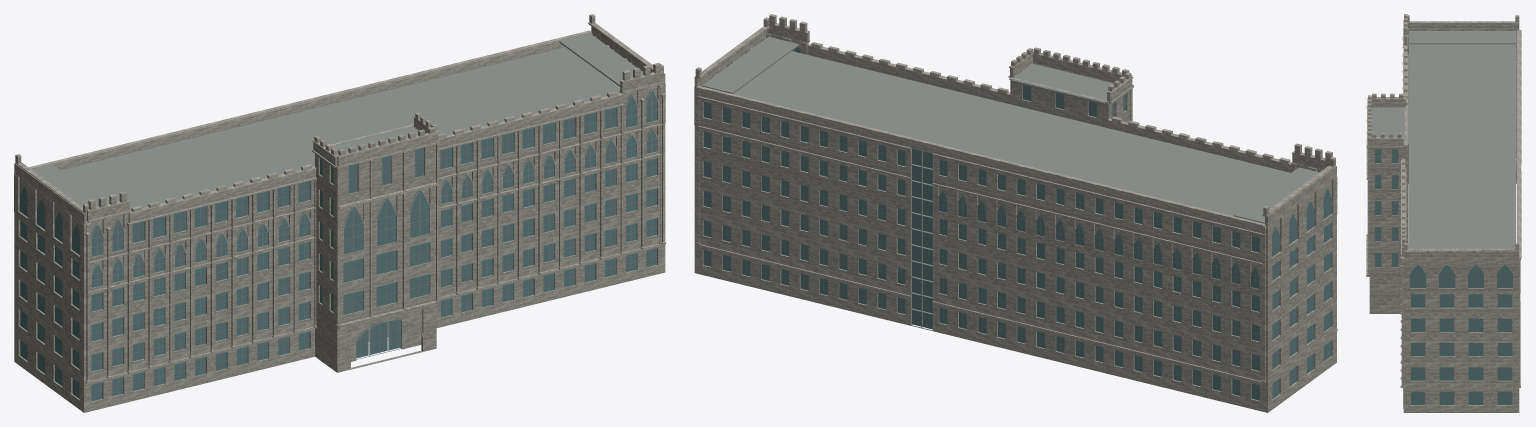
3 renders of one model, left to right at view 1: azimuth 30°, elevation 25°; view 2: azimuth 150°, elevation 25°; view 3: azimuth 270°, elevation 25°, orthographic. The views are drawn at different scales.
Visible parts, largest first — view 1: woodang__stone, woodang__glass, woodang__cream, woodang__roof, woodang__frame, woodang__rough; view 2: woodang__cream, woodang__roof, woodang__glass, woodang__stone, woodang__frame; view 3: woodang__roof, woodang__cream, woodang__stone, woodang__glass, woodang__frame.
Boxes of the visible parts, x1,y1,x2,y2 form: woodang__stone: (14,26,665,412); woodang__glass: (19,89,657,401); woodang__cream: (15,14,665,383); woodang__roof: (32,33,649,341); woodang__frame: (91,90,658,402); woodang__rough: (87,245,662,408); woodang__cream: (694,14,1337,411); woodang__roof: (702,36,1319,326); woodang__glass: (703,47,1331,400); woodang__stone: (694,25,1337,412); woodang__frame: (702,84,1259,401); woodang__roof: (1372,31,1516,248); woodang__cream: (1366,14,1521,412); woodang__stone: (1368,24,1519,313); woodang__glass: (1375,149,1512,404); woodang__frame: (1374,149,1398,268).
Size of the model in its own units: 82.25 by 30 by 23.44.
6 materials, 3 textured.
